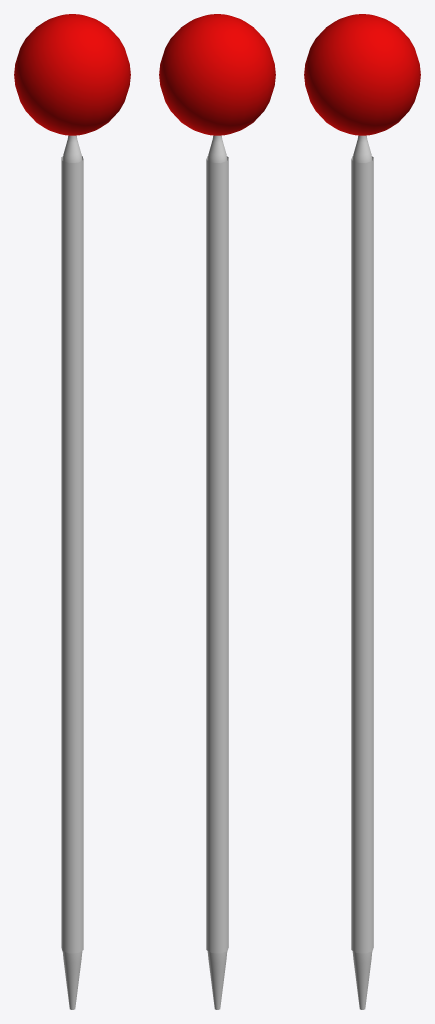
Rendered from volume_pipette_25ml.fbx.
3 views of the same model, side by side, from view 1: azimuth 30°, elevation 25°; view 2: azimuth 150°, elevation 25°; view 3: azimuth 330°, elevation 25° (orthographic).
Visible parts, largest first — view 1: Label, Rubber, Pipette; view 2: Label, Rubber, Pipette; view 3: Label, Rubber, Pipette.
Boxes of the visible parts, left/top/right/bottom form: Label: left=61, top=156, right=83, bottom=953; Rubber: left=14, top=14, right=130, bottom=135; Pipette: left=62, top=135, right=82, bottom=1009; Label: left=206, top=156, right=228, bottom=953; Rubber: left=159, top=14, right=275, bottom=135; Pipette: left=207, top=135, right=227, bottom=1009; Label: left=351, top=156, right=373, bottom=953; Rubber: left=304, top=14, right=420, bottom=135; Pipette: left=352, top=135, right=372, bottom=1009.
Size of the model in its own units: 4.96 by 46.35 by 4.96.
